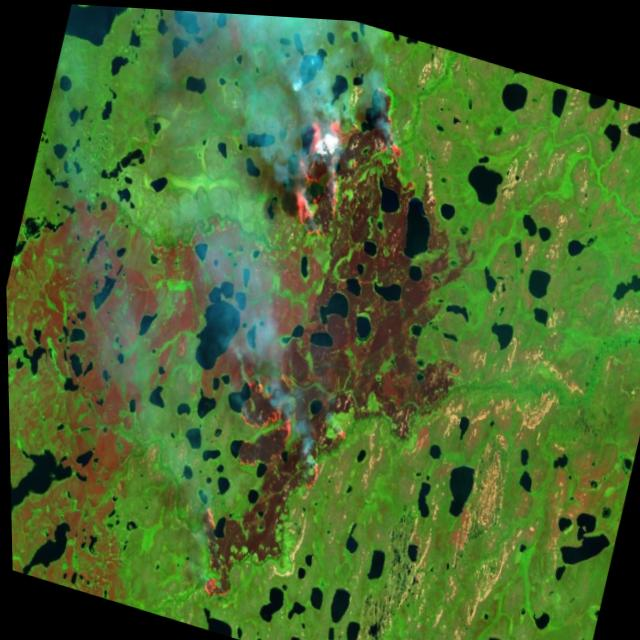fire: (173, 365, 355, 632), (264, 66, 423, 274)
